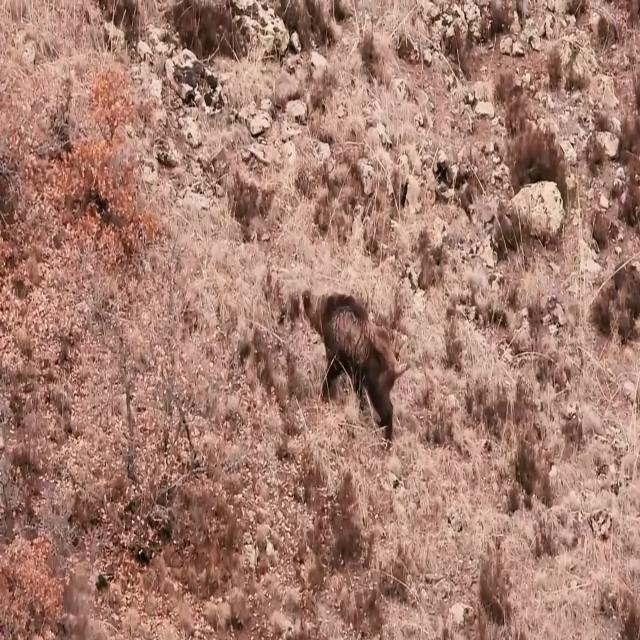pig: (296, 251, 394, 440)
